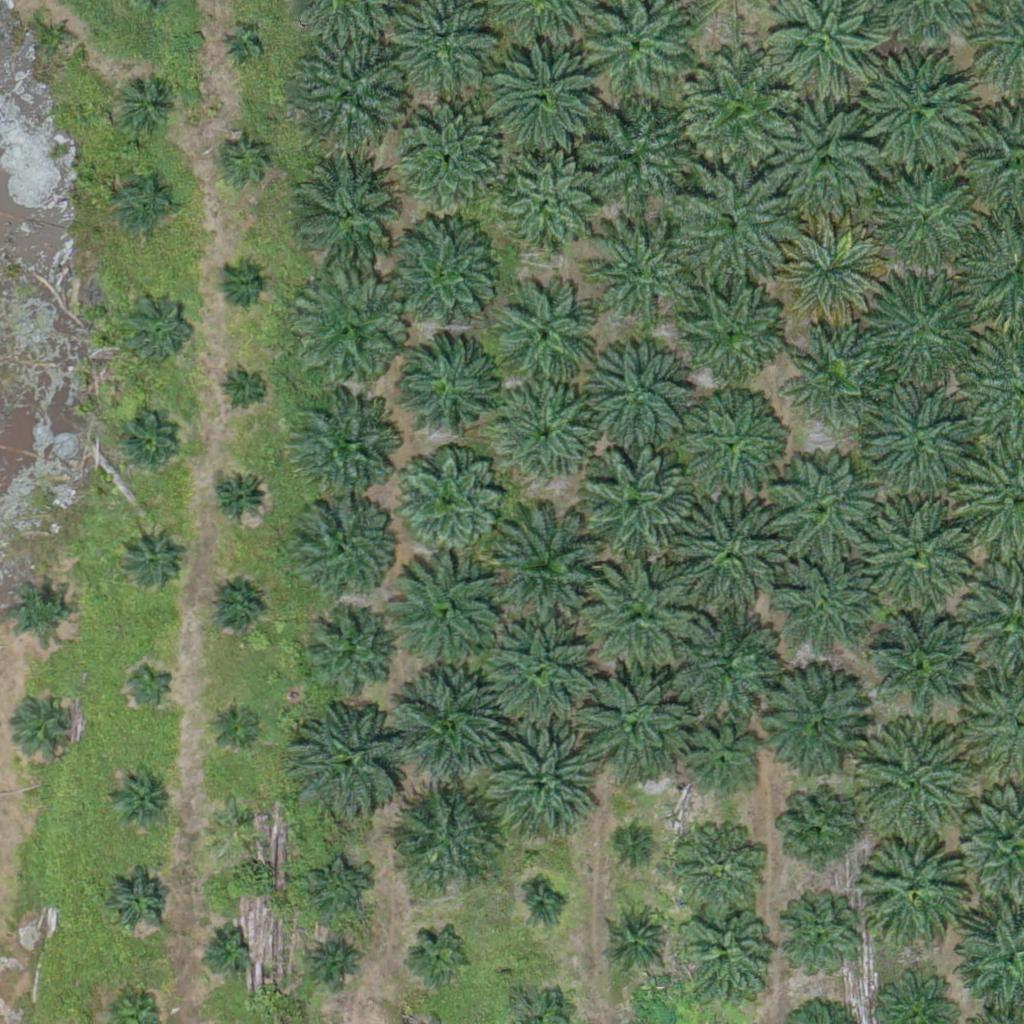Kelapa_Sawit: (488, 506, 613, 632), (286, 700, 411, 826), (483, 614, 596, 728), (393, 559, 506, 673), (391, 444, 504, 558), (295, 276, 408, 390), (853, 831, 966, 944), (756, 671, 869, 784), (674, 499, 787, 612), (660, 600, 773, 713), (481, 723, 594, 836), (394, 665, 507, 778), (385, 780, 498, 893), (859, 52, 972, 165), (293, 37, 406, 150), (293, 152, 406, 265), (576, 100, 689, 213), (680, 53, 793, 166), (774, 218, 887, 331), (771, 451, 884, 564), (676, 171, 789, 284), (672, 276, 785, 389), (385, 221, 498, 334), (574, 660, 686, 774), (288, 395, 400, 509), (856, 721, 968, 834), (585, 558, 697, 671), (871, 162, 983, 275), (861, 271, 973, 384), (861, 382, 973, 495), (860, 494, 972, 607), (488, 38, 600, 151), (767, 102, 879, 215), (584, 216, 696, 329), (580, 448, 692, 561), (870, 618, 970, 719), (403, 104, 503, 205), (500, 158, 600, 259), (682, 396, 782, 497), (589, 341, 689, 442), (497, 290, 597, 391), (294, 493, 394, 594), (498, 383, 598, 483), (402, 337, 502, 437), (674, 821, 762, 909), (682, 915, 770, 1003), (304, 610, 392, 698), (792, 333, 879, 422), (779, 565, 866, 653), (782, 791, 857, 867), (784, 906, 859, 982), (680, 724, 755, 800), (122, 289, 197, 364), (20, 693, 83, 756), (9, 577, 72, 640), (118, 416, 181, 479), (107, 765, 170, 828), (107, 870, 170, 933), (208, 466, 271, 529), (118, 76, 180, 139), (117, 173, 179, 236), (119, 527, 181, 590), (307, 857, 369, 920), (411, 926, 473, 989), (205, 578, 267, 641), (220, 133, 270, 184), (313, 935, 363, 986), (211, 695, 261, 746), (210, 792, 260, 843), (200, 921, 250, 972), (126, 657, 176, 708), (216, 257, 266, 308), (611, 914, 661, 964), (220, 365, 270, 415), (619, 825, 657, 863), (39, 19, 77, 57), (222, 28, 260, 66), (524, 887, 561, 925)
